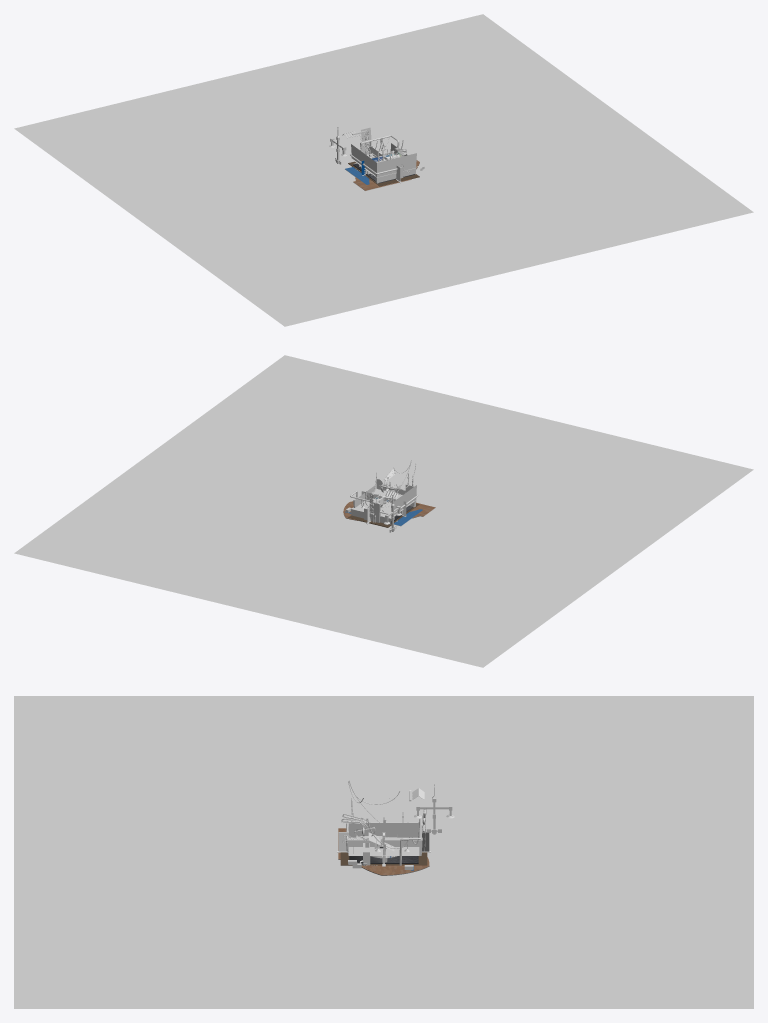
Rendered from ramenShop-uvRestored-v2.glb.
The picture shows the model from 3 angles, top to bottom: view 1: azimuth 30°, elevation 25°; view 2: azimuth 150°, elevation 25°; view 3: azimuth 270°, elevation 25°; orthographic projection. The views are drawn at different scales.
Visible parts, largest first — view 1: floor, chunk_2; view 2: floor; view 3: floor, chunk_3, chunk_15, Mesh_62.
Part boxes in pixels (left/top/right/bottom): floor: left=14, top=14, right=753, bottom=326; chunk_2: left=351, top=144, right=416, bottom=183; floor: left=14, top=355, right=753, bottom=667; floor: left=14, top=696, right=753, bottom=1008; chunk_3: left=348, top=823, right=419, bottom=837; chunk_15: left=341, top=808, right=426, bottom=855; Mesh_62: left=338, top=828, right=429, bottom=875.
Bounding box in the file's own units: 1635143 × 303480 × 1635143.
110 materials, 54 textured.
